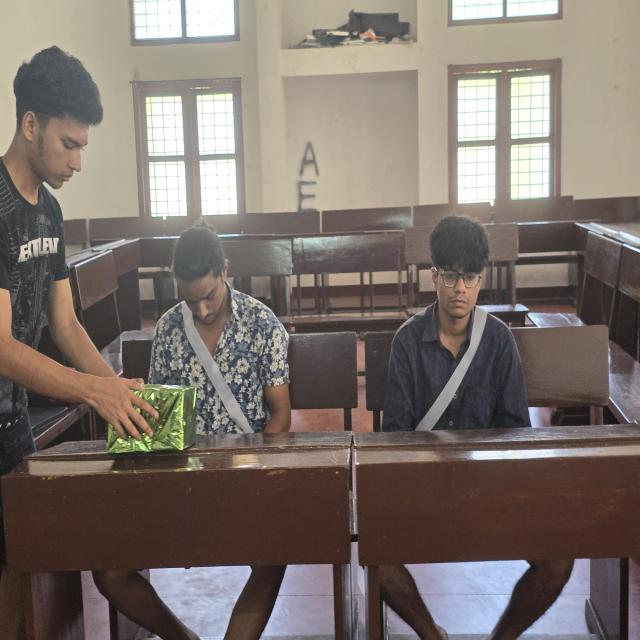seatbelt: (396, 326, 506, 444), (169, 315, 269, 436)
